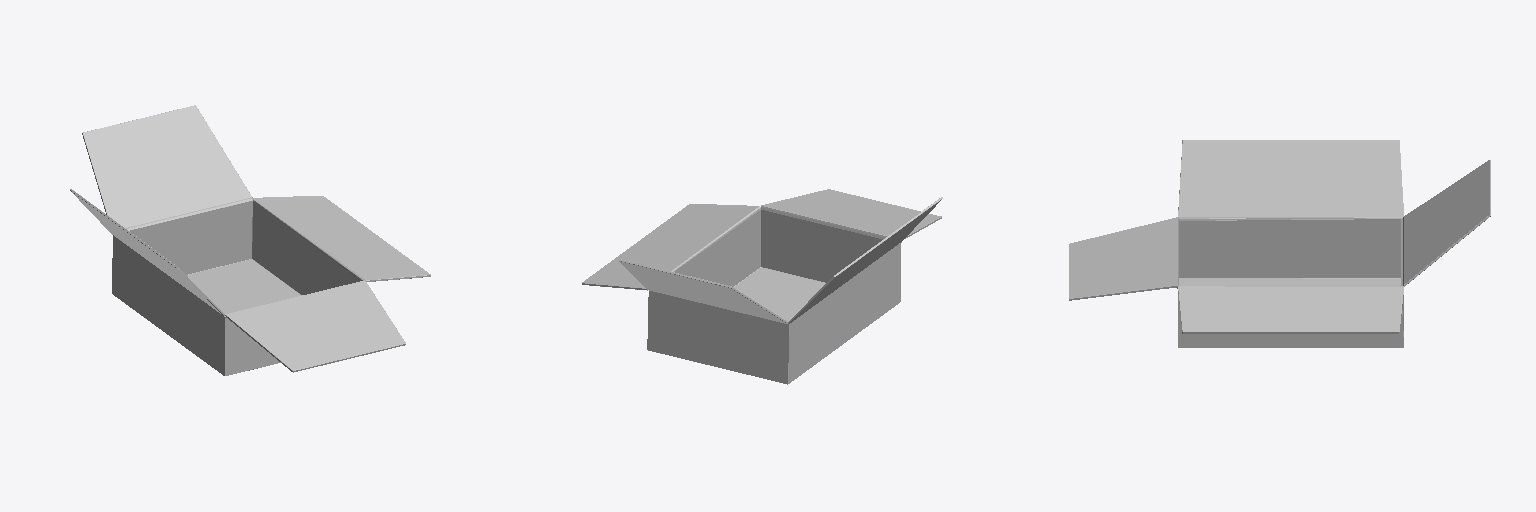
File: box-with-animation.obj
3 views of the same model, side by side, from view 1: azimuth 30°, elevation 25°; view 2: azimuth 150°, elevation 25°; view 3: azimuth 270°, elevation 25° (orthographic).
Visible parts, largest first — view 1: Cube; view 2: Cube; view 3: Cube.
Boxes of the visible parts, x1=… form: Cube: x1=70, y1=105, x2=430, y2=375; Cube: x1=582, y1=189, x2=942, y2=384; Cube: x1=1069, y1=140, x2=1490, y2=347.
Size of the model in its own units: 2.59 by 1.23 by 3.73.